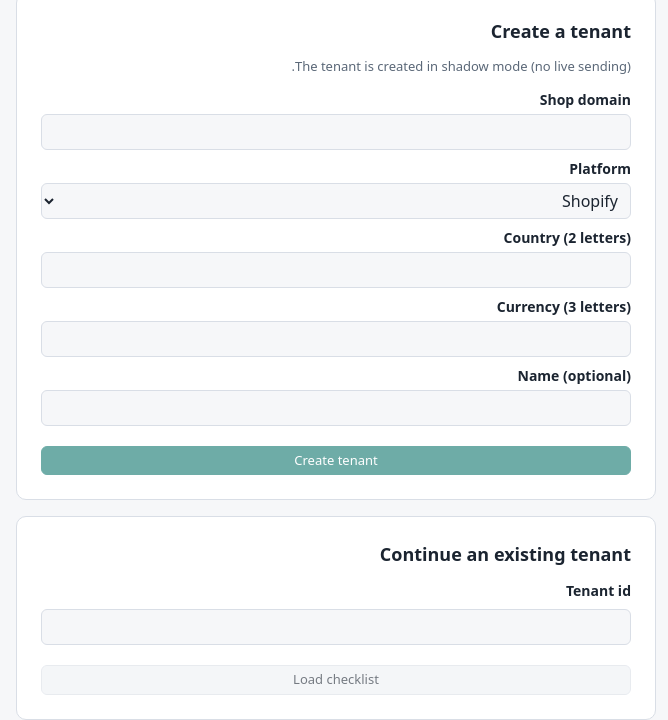
onboarding wizard › continues an existing tenant by id
The image size is (668, 720).
(page scrolled)
In the field labelled "Tenant id": (336, 627) [41,609,631,645], type "7"
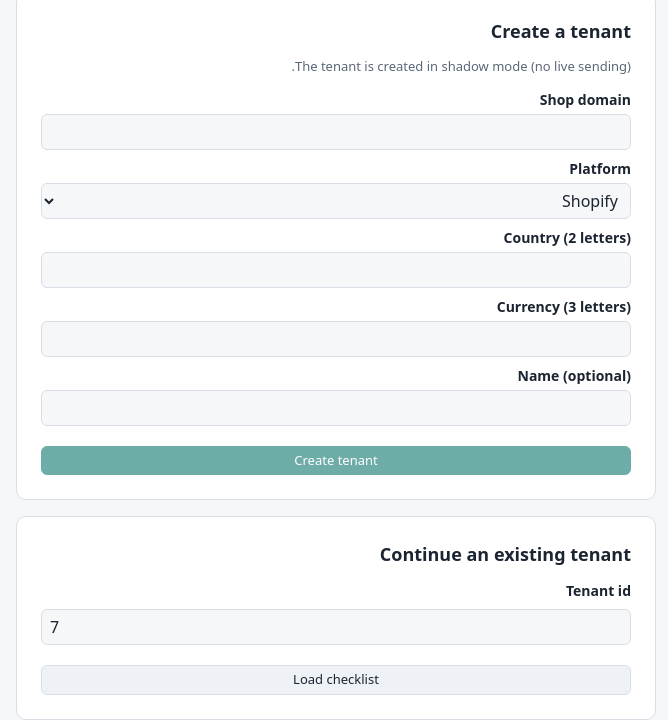
Click the button "Load checklist": (336, 680) [41,665,631,694]
(page scrolled)
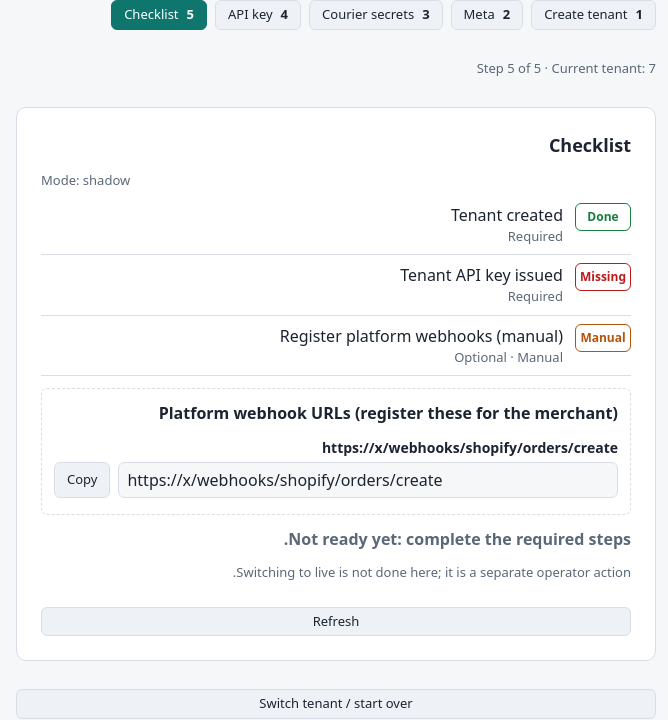
Check: the text "Tenant API key issued" is shown, box [400,263,563,287]
